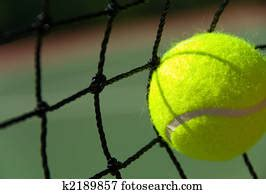tennis_ball: (148, 32, 266, 161)
